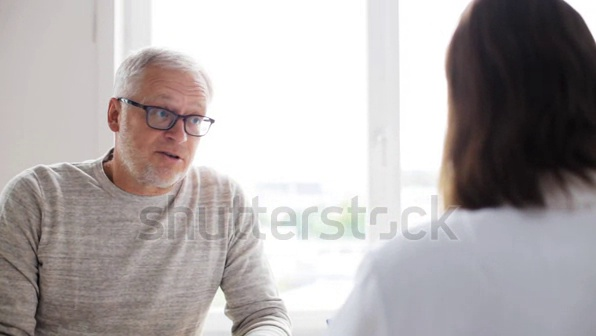No Mask: (103, 51, 220, 186)
